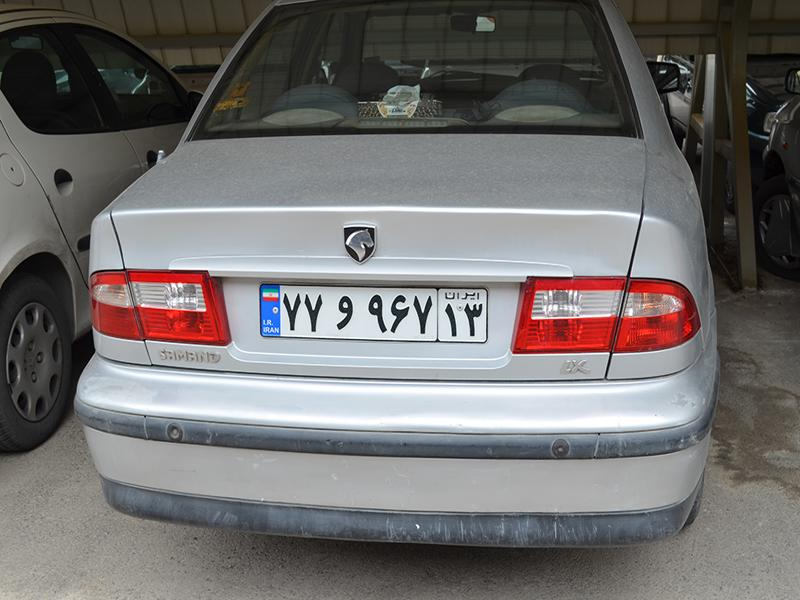Plate: (257, 281, 488, 349)
